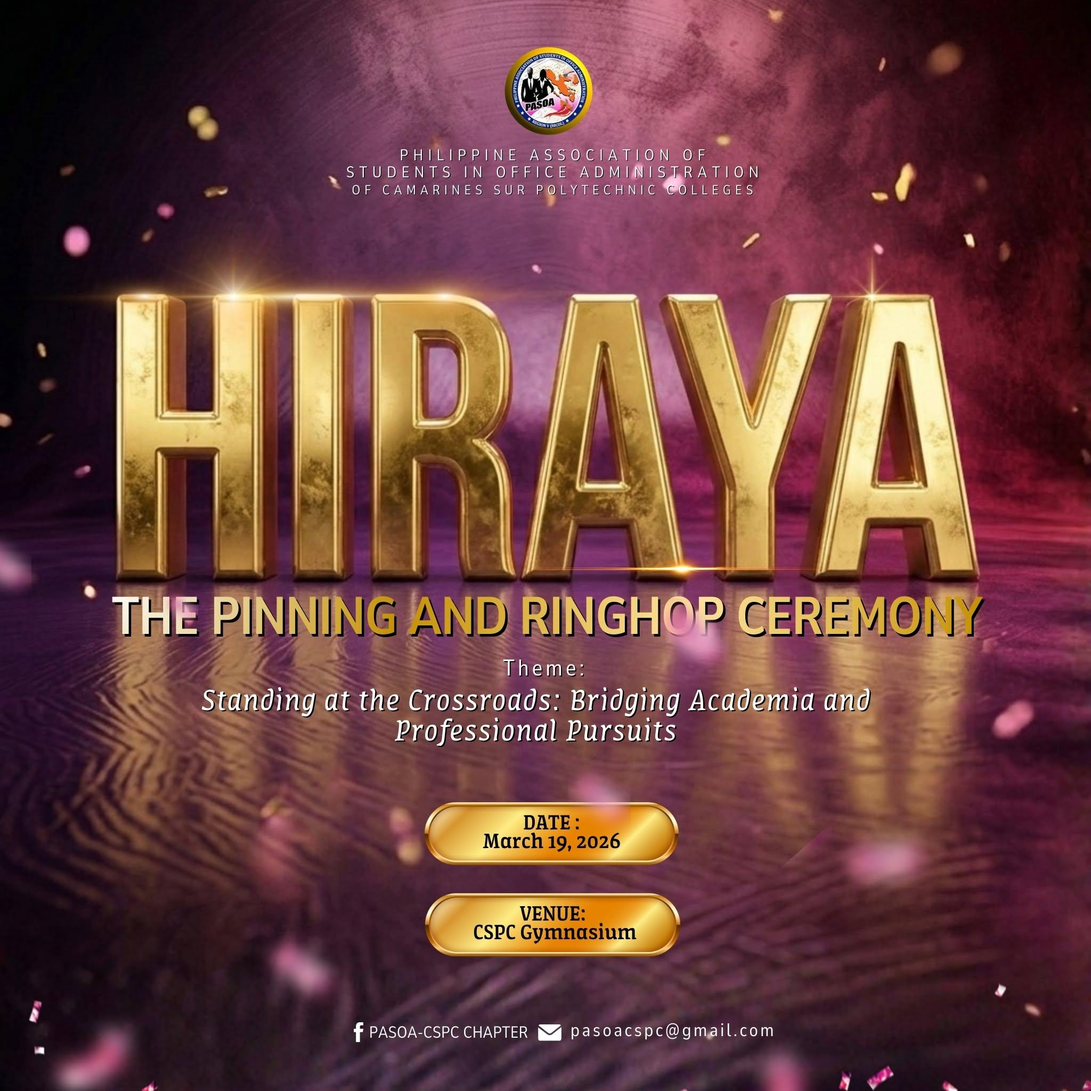embellishment: (536, 1019, 566, 1044), (347, 1017, 369, 1044)
logo: (501, 40, 597, 139)
text: (101, 281, 996, 586), (103, 586, 998, 648), (196, 683, 882, 747), (342, 142, 763, 201), (469, 898, 644, 947), (479, 810, 625, 855), (567, 1020, 777, 1041), (367, 1020, 532, 1043), (501, 651, 588, 681)
underlay: (426, 891, 682, 958), (423, 798, 680, 863)
